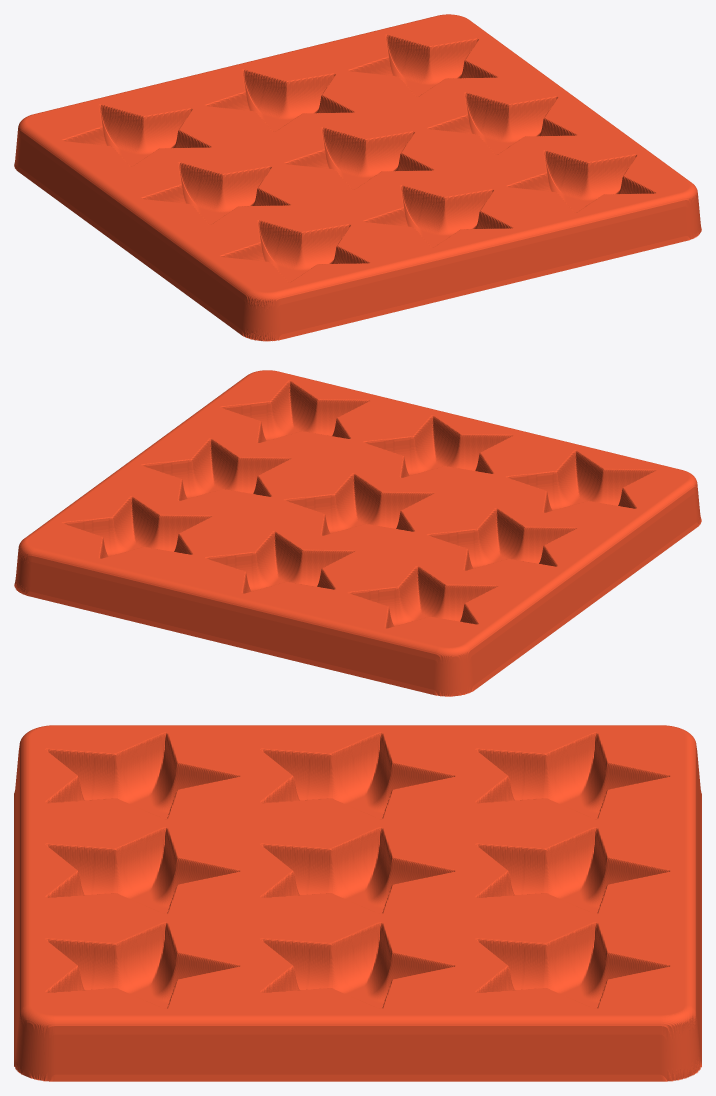
Rendered from mold.glb.
3 views of the same model, one above another, from view 1: azimuth 30°, elevation 25°; view 2: azimuth 150°, elevation 25°; view 3: azimuth 270°, elevation 25° (orthographic). The views are drawn at different scales.
Parts seen in each view (by area): view 1: geometry_0; view 2: geometry_0; view 3: geometry_0.
Part boxes in pixels (x1=…): geometry_0: x1=14, y1=14, x2=701, y2=341; geometry_0: x1=14, y1=370, x2=701, y2=696; geometry_0: x1=14, y1=725, x2=701, y2=1081.
Bounding box in the file's own units: 0.1579 × 0.0145 × 0.1516.
